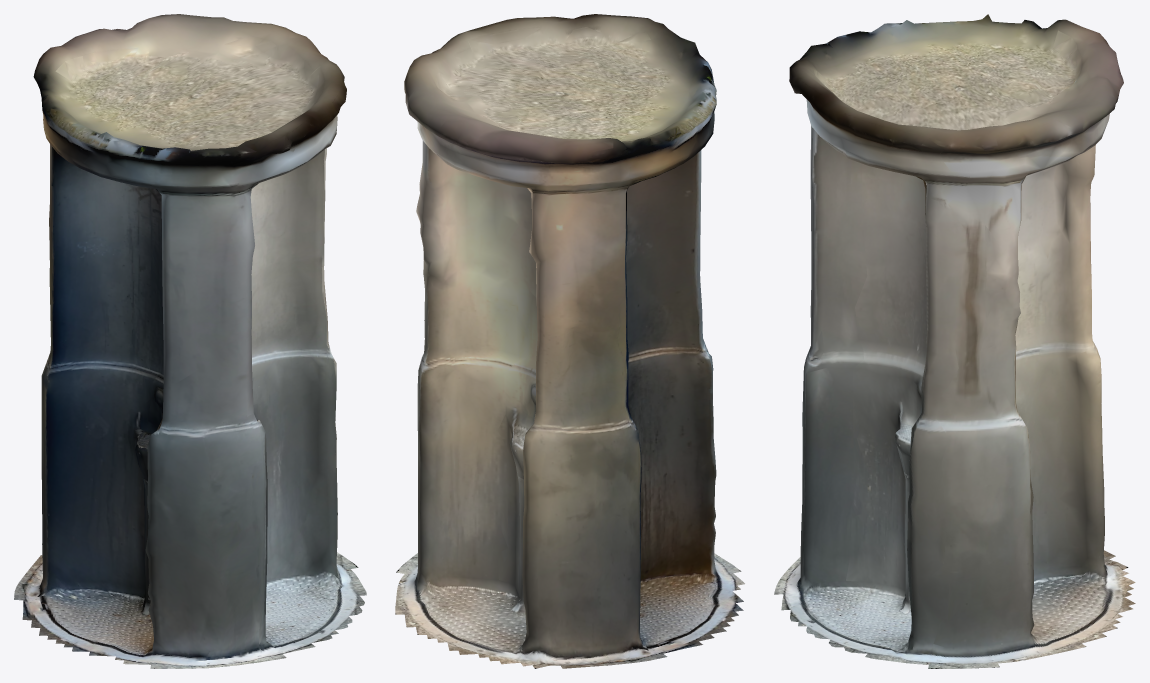
File: S025_EmergingUrinol.glb
3 renders of one model, left to right at view 1: azimuth 30°, elevation 25°; view 2: azimuth 150°, elevation 25°; view 3: azimuth 270°, elevation 25°, orthographic. The views are drawn at different scales.
Parts seen in each view (by area): view 1: S025_RETOPO; view 2: S025_RETOPO; view 3: S025_RETOPO.
Boxes of the visible parts, x1,y1,x2,y2 form: S025_RETOPO: (14,14,366,668); S025_RETOPO: (395,14,744,668); S025_RETOPO: (774,14,1135,668).
Size of the model in its own units: 1.4 by 2.26 by 1.39.
1 material, 1 textured.
